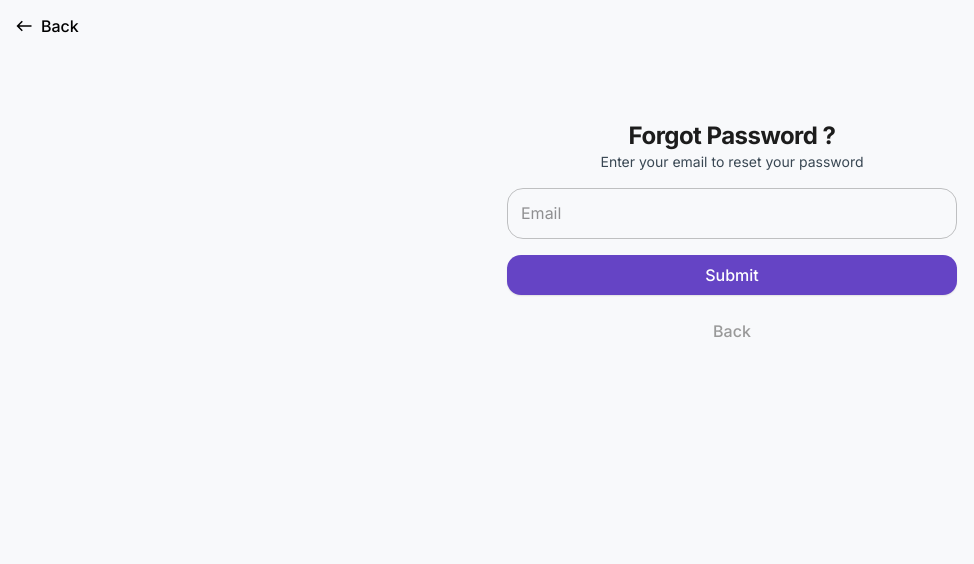
Scenario: ForgotPasswordScreen Component › renders OTP verification
Step 1. Type "test@mail.com" into the field with placeholder "Email" → (732, 214), box x1=507 y1=188 x2=957 y2=239
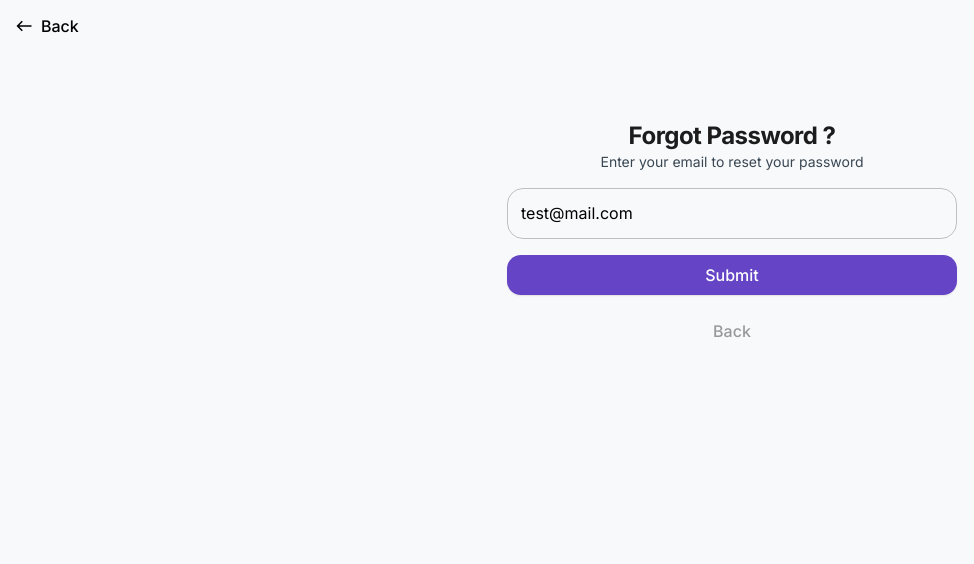
Step 2. Click the button "Submit" → (732, 275), box x1=507 y1=255 x2=957 y2=295
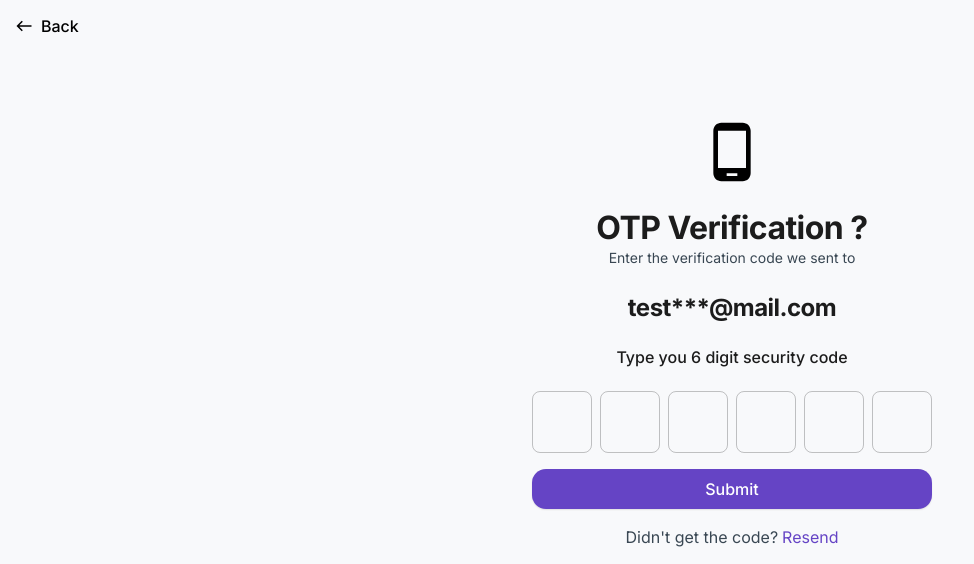
Check: the heading "OTP Verification ?" is shown, box x1=596 y1=208 x2=868 y2=248
Check: the heading "Type you 6 digit security code" is shown, box x1=616 y1=348 x2=848 y2=367
